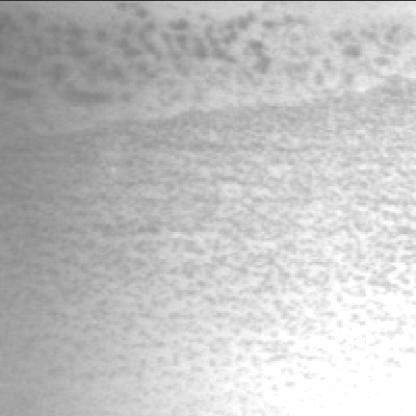pitted_surface: (2, 98, 410, 410), (0, 0, 380, 104)
